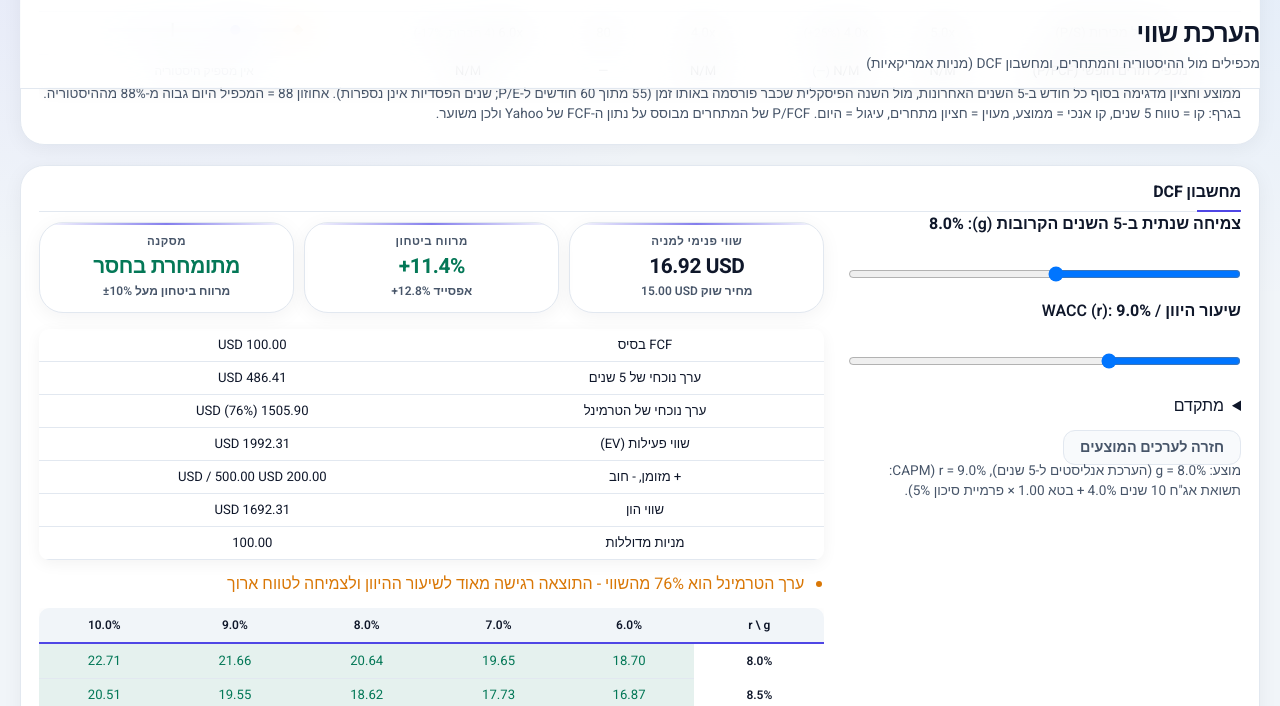
moving the discount-rate slider recomputes instantly
(page scrolled)
Expected: the text "מתומחרת בחסר" is shown, [93,251,240,282]
Set the slider labelled "שיעור היוון / WACC (r): 9.0%" to "0.14" at [1092, 360], box [848,336,1241,386]
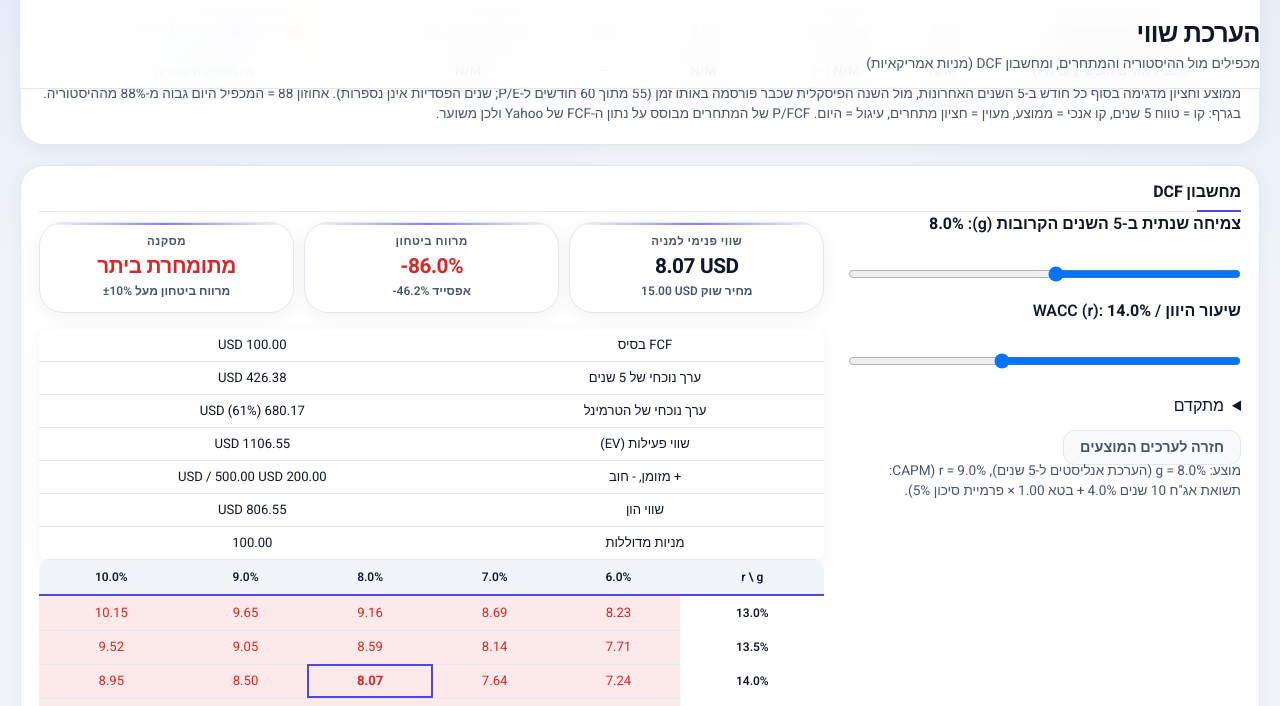
Result: the text with test id "dcf-verdict" reads "מתומחרת ביתר" at [97,251,236,282]
